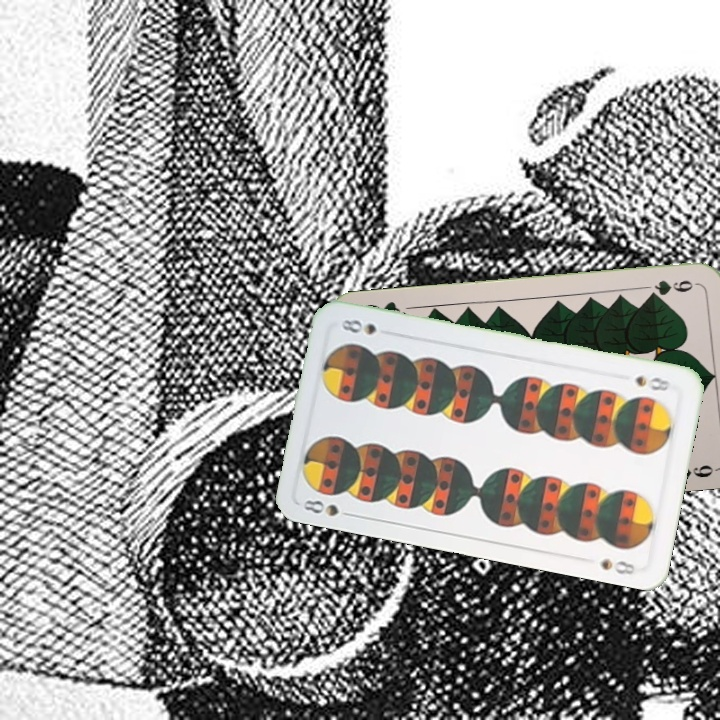G9: (644, 276, 702, 300)
S8: (299, 495, 358, 520), (631, 371, 673, 394)
